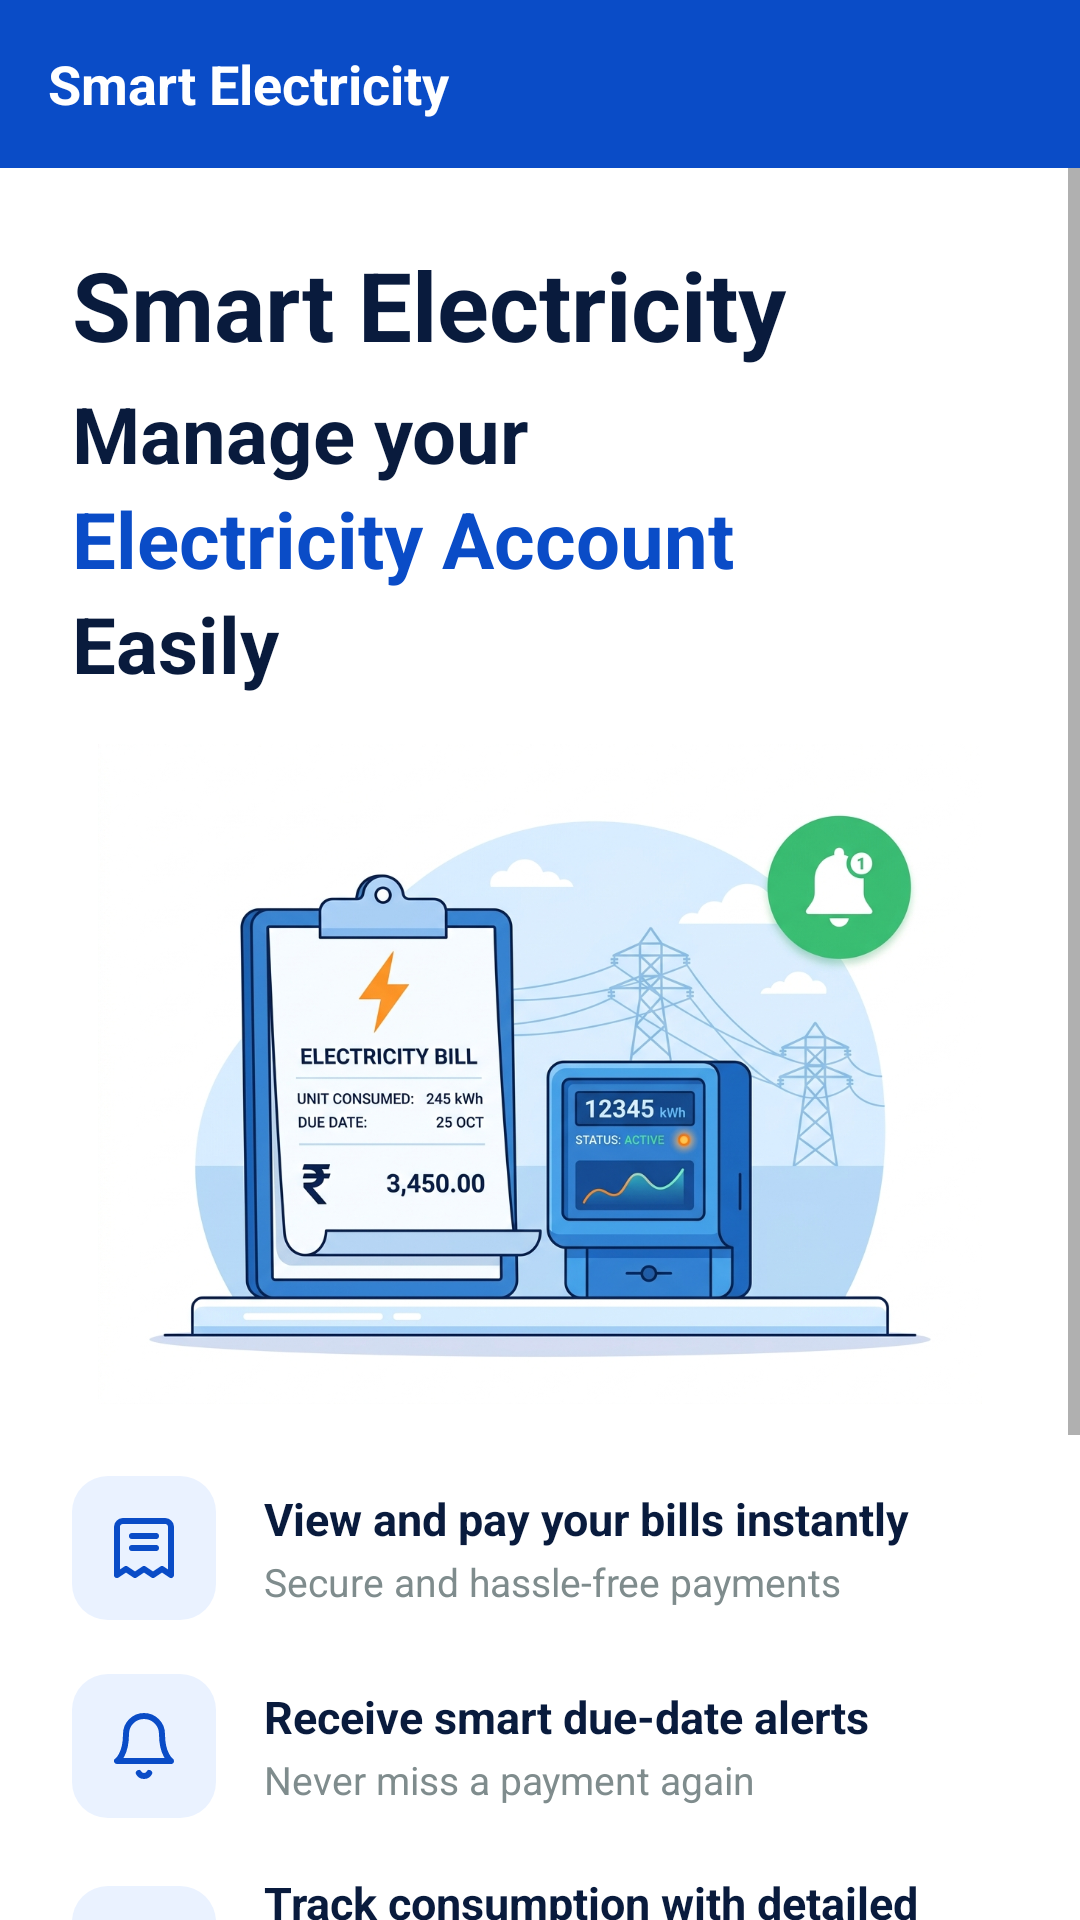

Named icons in this screenshot (1080*1920) and their bounding boxes, (x1, y1, x2, y2):
bell point: (114, 1713, 174, 1779)
bill point: (114, 1518, 174, 1578)
